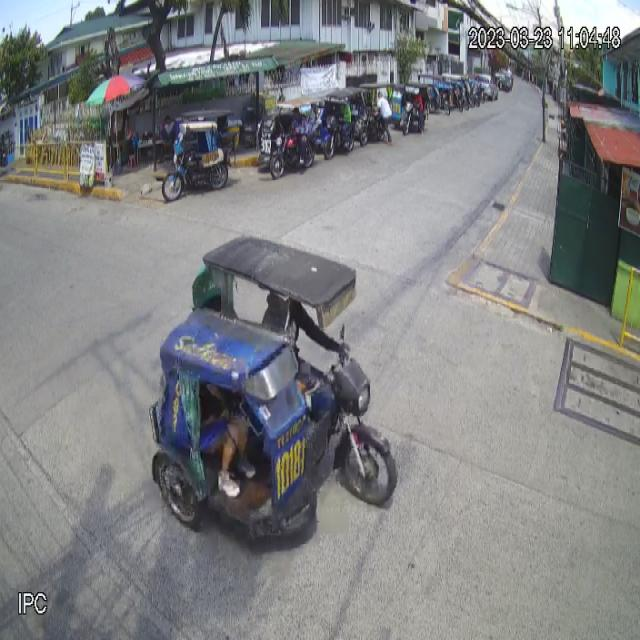Tricycle: (148, 233, 398, 530)
